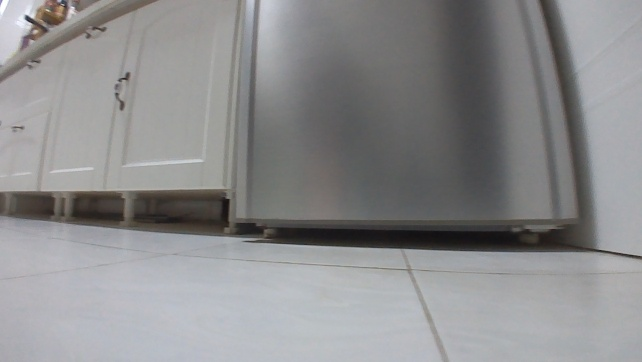cupboard: (0, 0, 244, 234)
refrigerator1: (231, 0, 580, 246)
